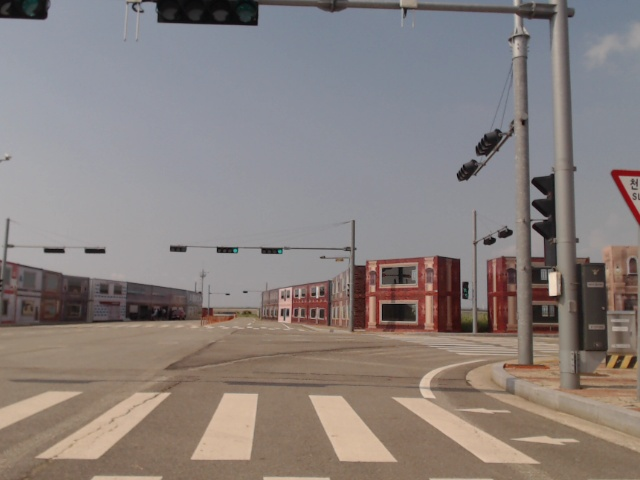straight_green_4: (156, 0, 258, 27), (0, 0, 49, 20), (262, 247, 284, 255), (219, 247, 238, 255)
